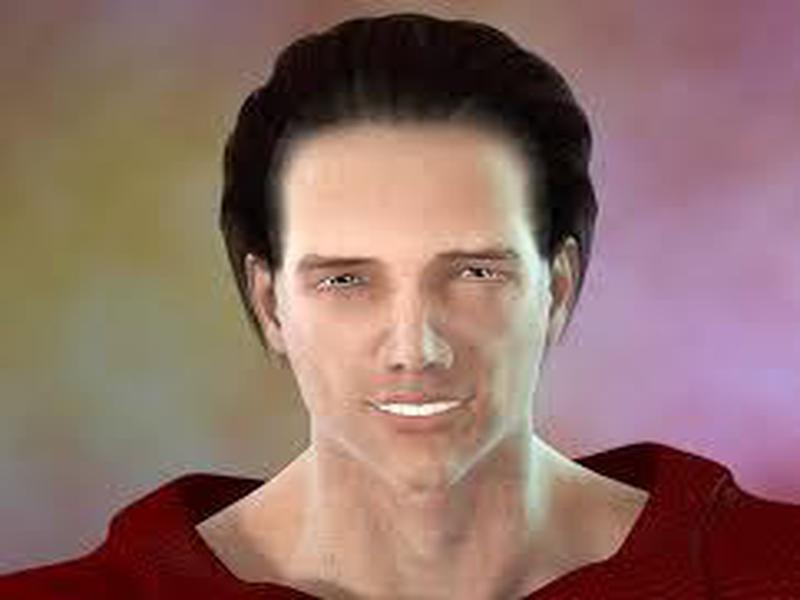without_mask: (278, 172, 536, 491)
